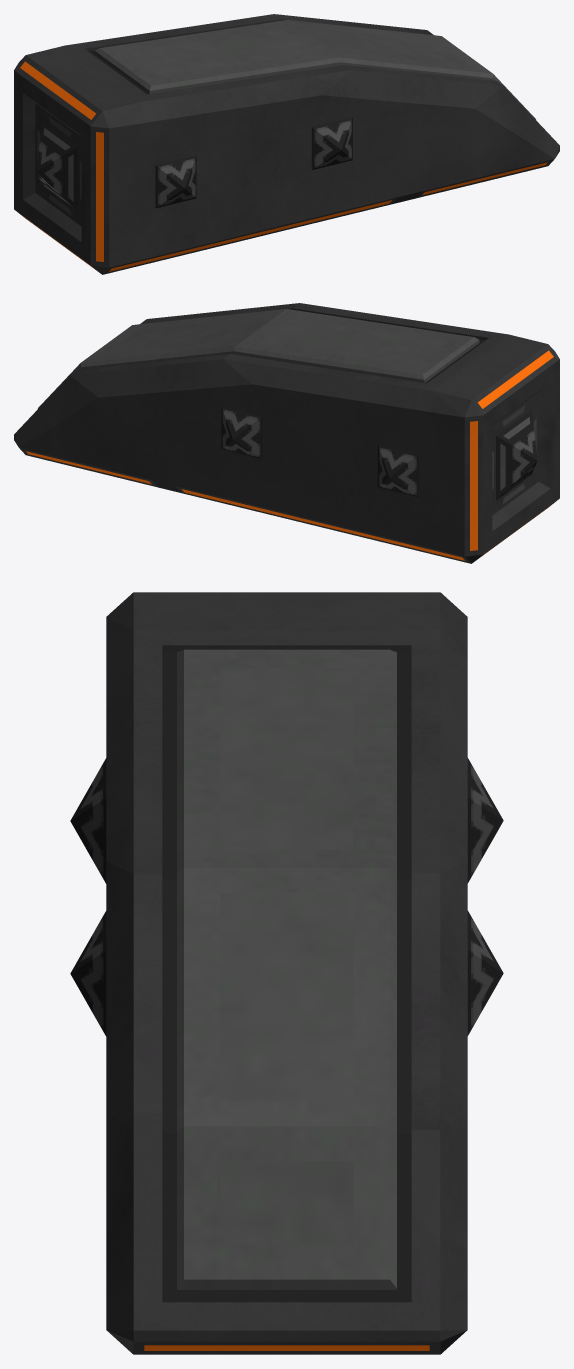
The model's file is IEC Long Slope.obj.
3 renders of one model, top to bottom at view 1: azimuth 30°, elevation 25°; view 2: azimuth 150°, elevation 25°; view 3: azimuth 270°, elevation 25°, orthographic. The views are drawn at different scales.
Parts seen in each view (by area): view 1: IEC_Long_Slope_IEC_One_Block_Cube_HS_One_Block.003; view 2: IEC_Long_Slope_IEC_One_Block_Cube_HS_One_Block.003; view 3: IEC_Long_Slope_IEC_One_Block_Cube_HS_One_Block.003.
Boxes of the visible parts, box(x1,y1,x2,y2) form: IEC_Long_Slope_IEC_One_Block_Cube_HS_One_Block.003: box(14, 14, 559, 274); IEC_Long_Slope_IEC_One_Block_Cube_HS_One_Block.003: box(14, 303, 559, 563); IEC_Long_Slope_IEC_One_Block_Cube_HS_One_Block.003: box(70, 592, 503, 1354).
Size of the model in its own units: 3.1 by 1.11 by 1.2.
